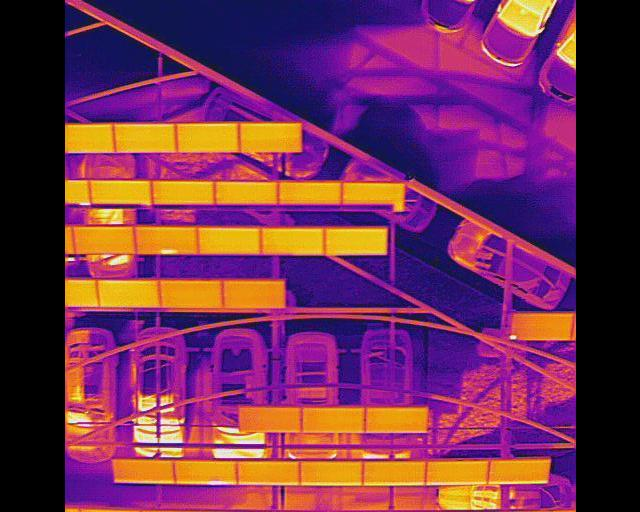Cell: (509, 312, 571, 340)
No-Anomaly: (236, 124, 301, 153), (71, 225, 136, 254), (112, 122, 175, 151), (174, 123, 239, 151), (220, 280, 284, 308), (96, 280, 160, 308), (157, 280, 223, 307), (196, 227, 261, 254), (259, 227, 323, 254), (111, 457, 175, 484), (323, 227, 386, 254), (298, 460, 364, 485), (301, 407, 366, 432), (236, 460, 300, 485), (238, 407, 301, 432), (150, 180, 213, 205), (213, 181, 279, 204), (88, 180, 151, 204), (364, 407, 424, 432), (364, 462, 426, 486), (424, 461, 488, 484), (487, 461, 550, 484), (279, 181, 341, 204), (342, 181, 403, 204)
Unclassified: (131, 226, 198, 254), (172, 460, 237, 484)
